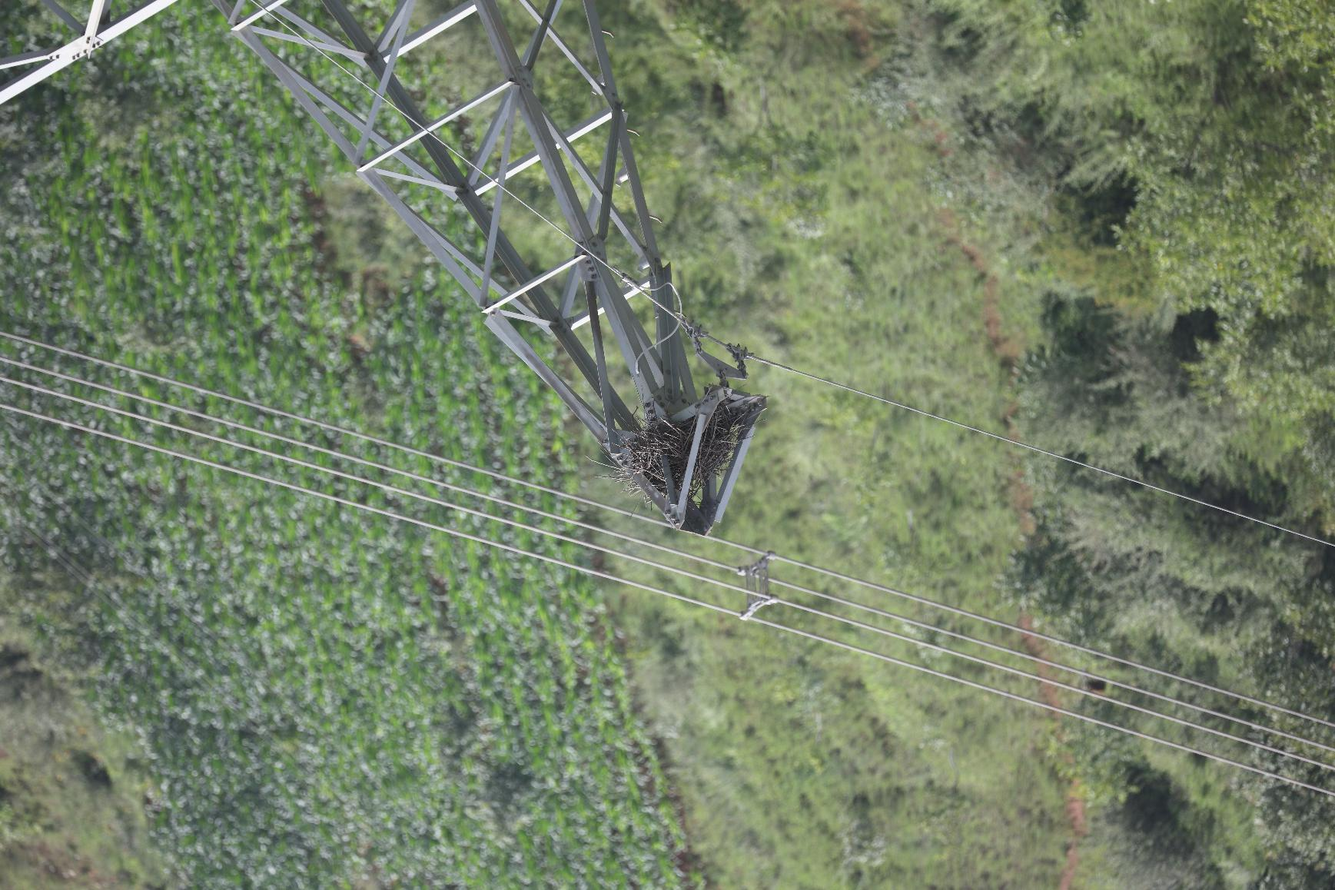nest: (606, 403, 747, 507)
